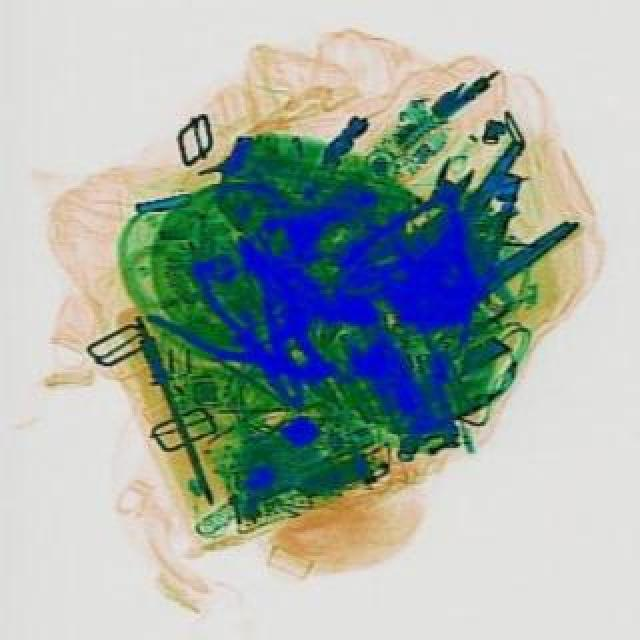wrench: (338, 138, 520, 318), (186, 242, 324, 418)
